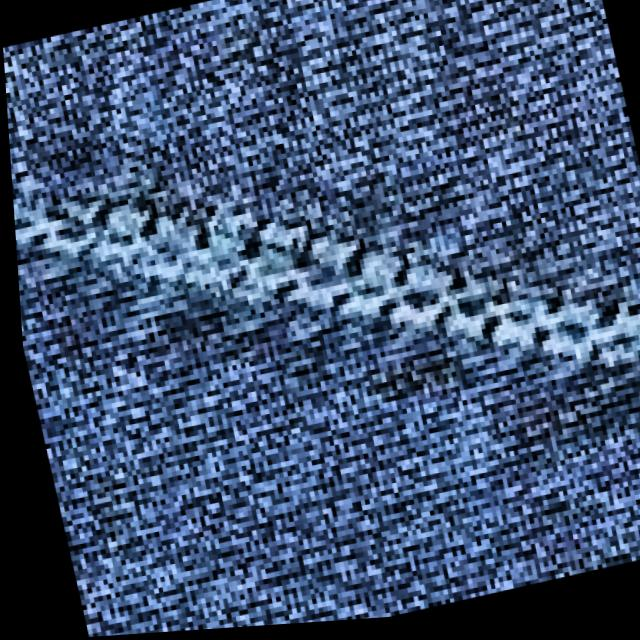seam: (4, 48, 640, 517)
